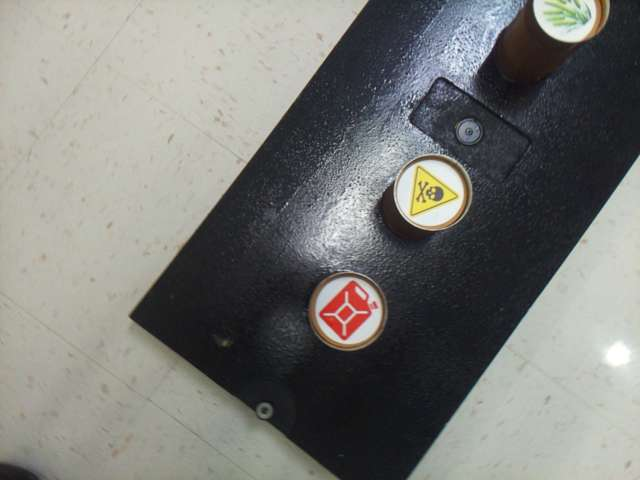gasoline: (315, 277, 381, 345)
toxic_fluid: (397, 160, 464, 225)
wheat_barrel: (534, 0, 597, 42)
